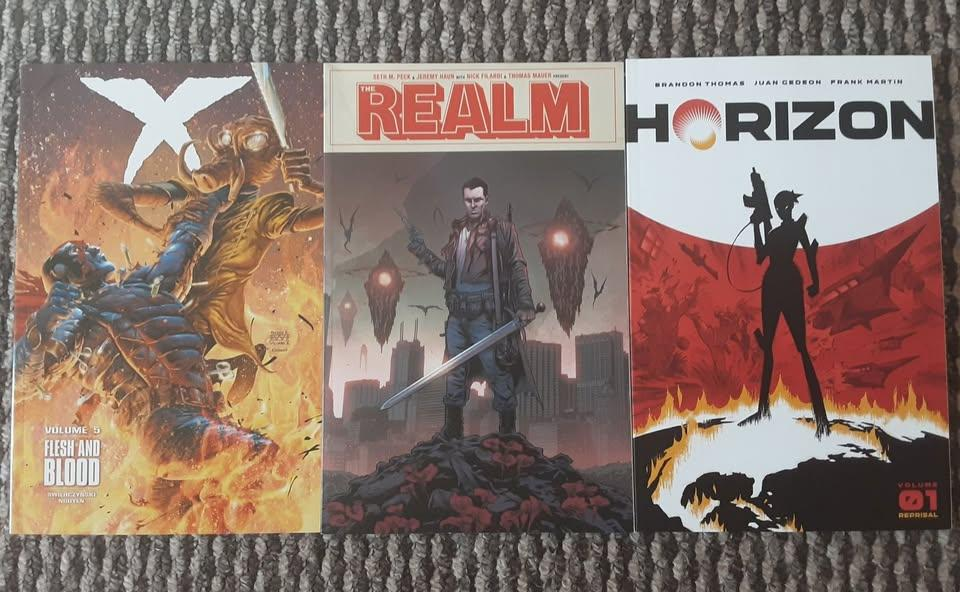comic: (624, 53, 950, 534), (10, 62, 325, 535), (322, 63, 631, 533)
